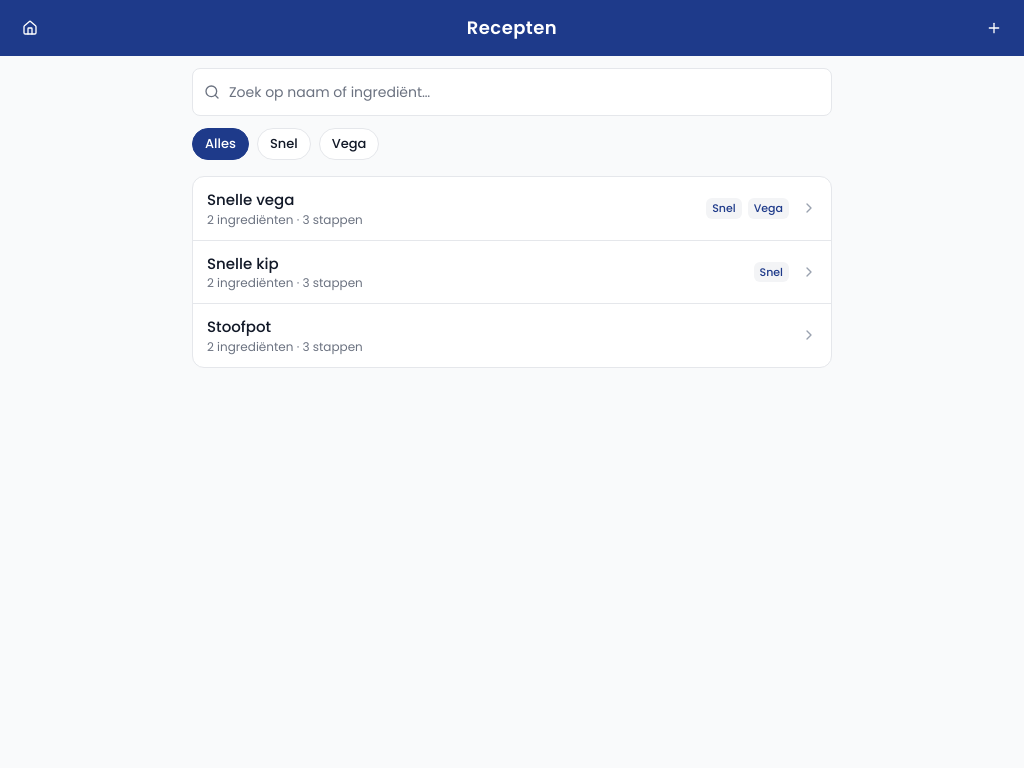
Scenario: ReceptenPageClient › narrows by tag chips, several together, and 'Alles' clears them
The image size is (1024, 768).
Click the button "Snel": (284, 144) [257,128,311,160]
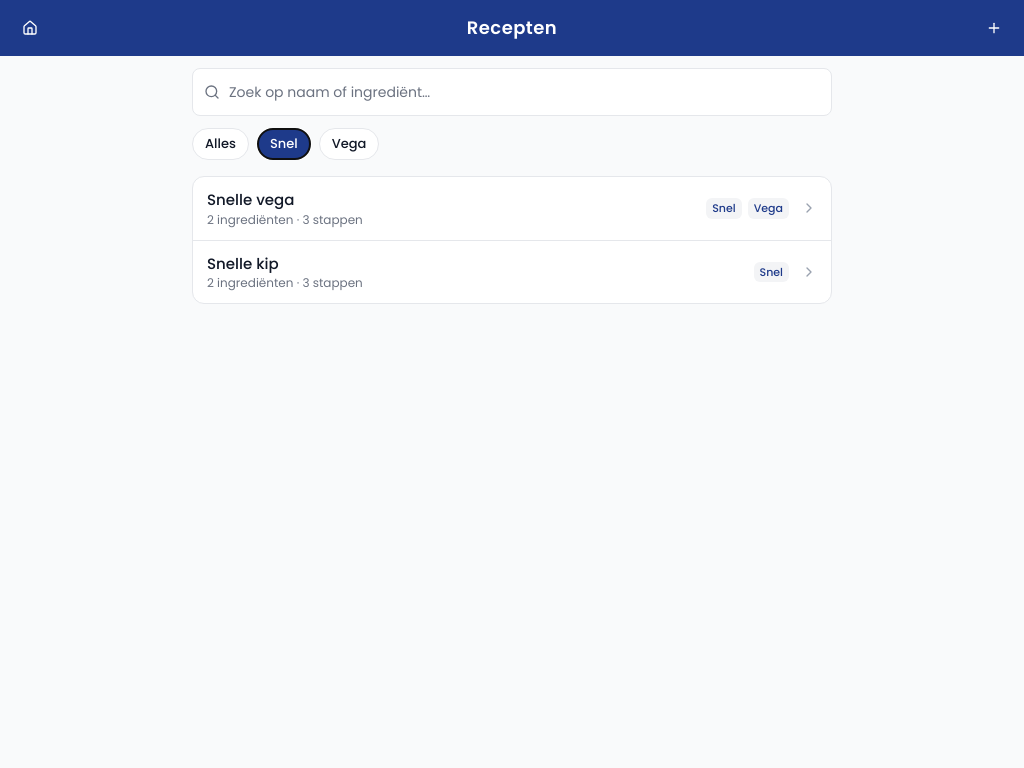
Expected: the text "Snelle kip" is shown, [207,252,279,274]
Expected: the link "Stoofpot" is gone
Click the button "Vega": (349, 144) [319,128,379,160]
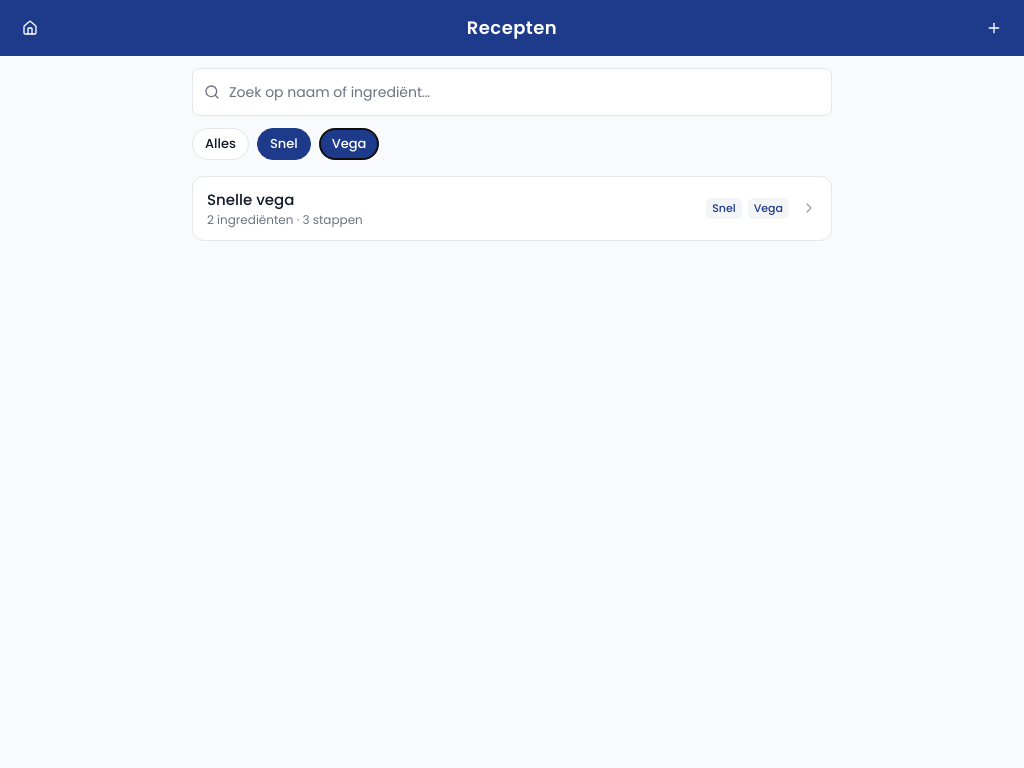
Expected: the text "Snelle vega" is shown, [207,189,294,210]
Expected: the link "Snelle kip" is gone
Click the button "Alles": (220, 144) [192,128,249,160]
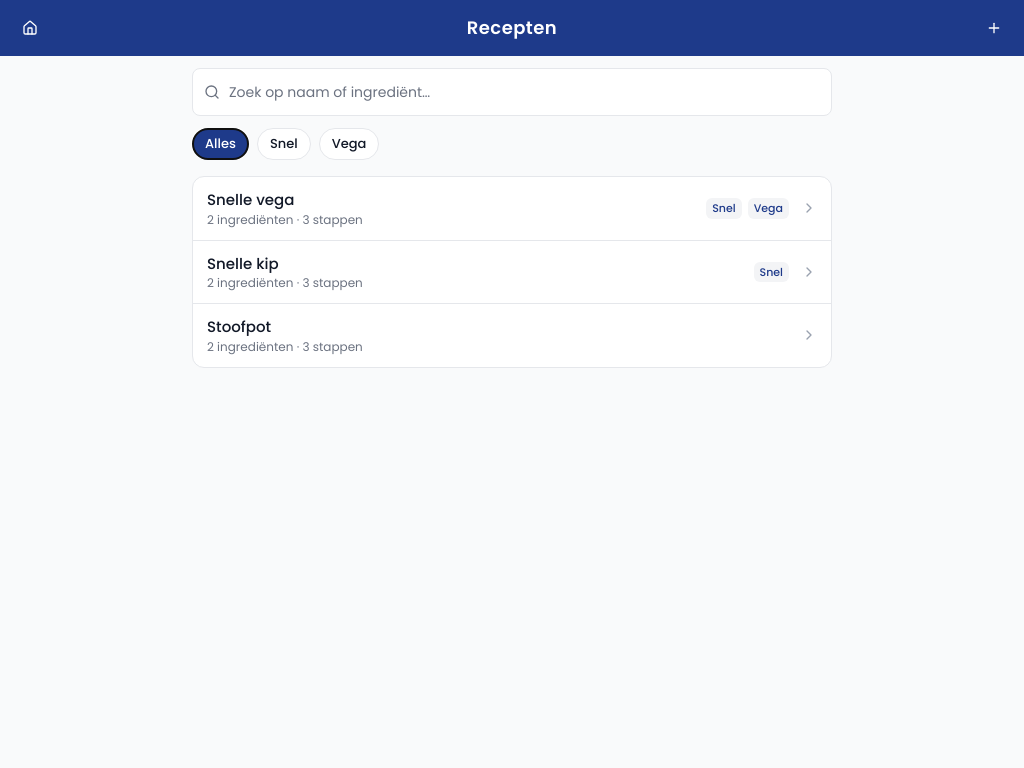
Expected: the text "Stoofpot" is shown, [207,316,271,337]
